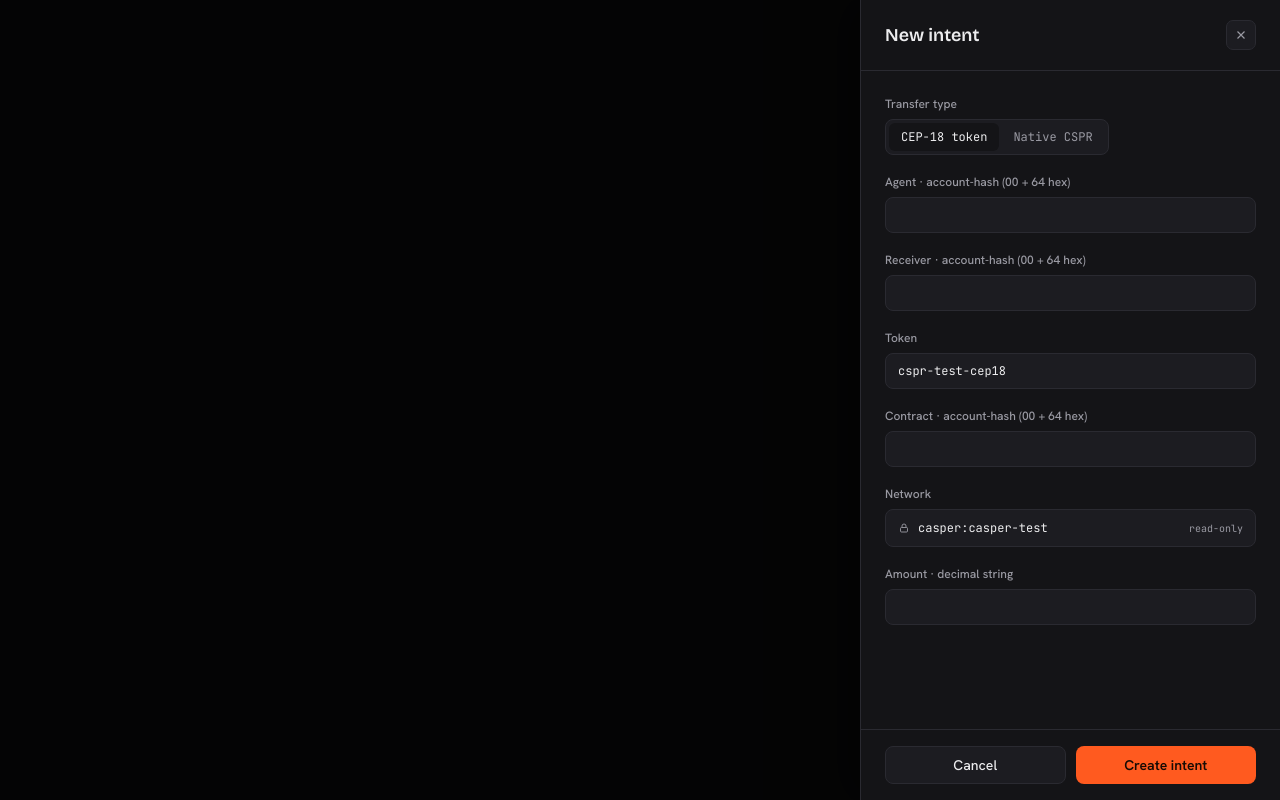
Test: NewIntentDrawer › blocks submit and flags every invalid field
Click the button "Create intent". click: click(1166, 765)
box: [1076,746,1256,784]
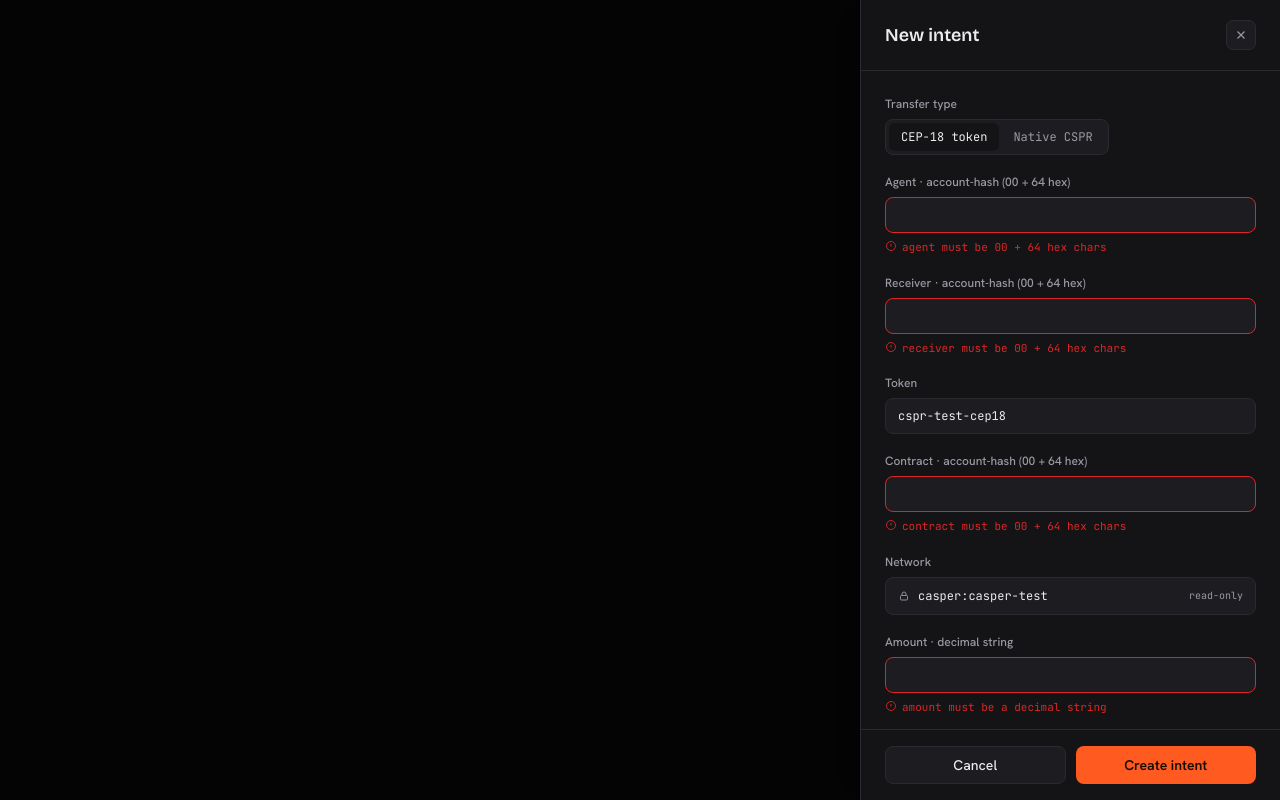
Check: the text "agent must be 00 + 64 hex chars" is shown, box [885,240,1107,254]
Check: the text "amount must be a decimal string" is shown, box [885,700,1107,714]
